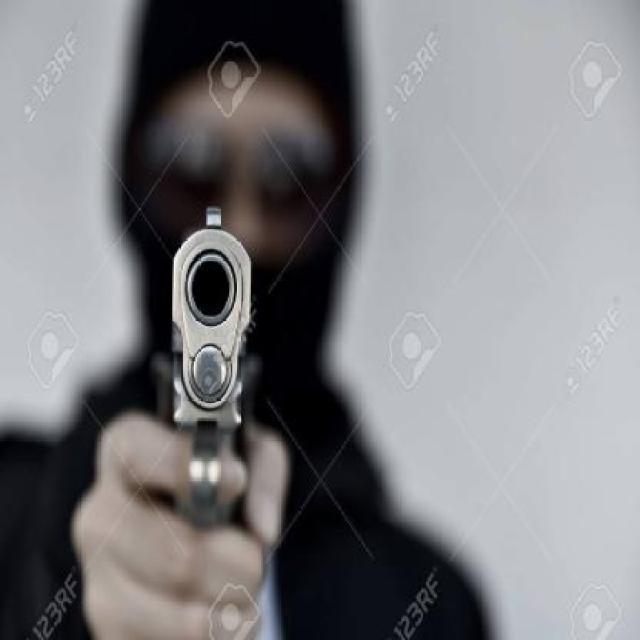gun: (140, 187, 274, 456)
